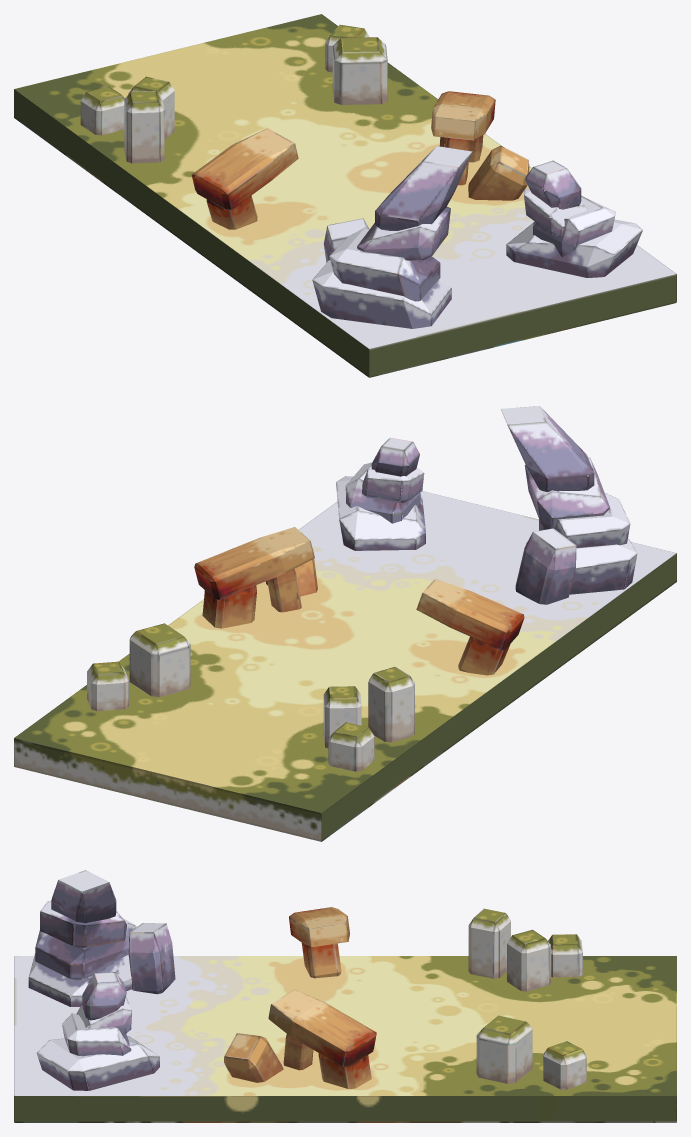
File: Tablero_FINAL.fbx
3 views of the same model, one above another, from view 1: azimuth 30°, elevation 25°; view 2: azimuth 150°, elevation 25°; view 3: azimuth 270°, elevation 25° (orthographic). The views are drawn at different scales.
Parts seen in each view (by area): view 1: TABLERO, beveled_cuboid_7, beveled_cuboid_11, beveled_cuboid_12, beveled_cuboid_15, beveled_cuboid_13, beveled_cuboid_4, beveled_cuboid_2, beveled_cuboid_9, beveled_cuboid_14, beveled_cuboid_19, beveled_cuboid_16 (+7 smaller); view 2: TABLERO, beveled_cuboid_12, beveled_cuboid_9, beveled_cuboid_7, beveled_cuboid_4, beveled_cuboid, beveled_cuboid_15, beveled_cuboid_2, beveled_cuboid_11, beveled_cuboid_14, beveled_cuboid_13, beveled_cuboid_3 (+9 smaller); view 3: TABLERO, beveled_cuboid_9, beveled_cuboid_15, beveled_cuboid_4, beveled_cuboid, beveled_cuboid_13, beveled_cuboid_12, beveled_cuboid_2, beveled_cuboid_1, beveled_cuboid_14, beveled_cuboid_11, beveled_cuboid_19 (+9 smaller).
Boxes of the visible parts, box(x1,y1,x2,y2) form: TABLERO: box(14, 14, 676, 377); beveled_cuboid_7: box(191, 128, 298, 209); beveled_cuboid_11: box(312, 260, 451, 328); beveled_cuboid_12: box(375, 146, 472, 230); beveled_cuboid_15: box(506, 219, 642, 277); beveled_cuboid_13: box(329, 227, 440, 301); beveled_cuboid_4: box(332, 37, 387, 104); beveled_cuboid_2: box(124, 91, 164, 163); beveled_cuboid_9: box(431, 91, 495, 140); beveled_cuboid_14: box(357, 206, 450, 260); beveled_cuboid_19: box(468, 145, 529, 200); beveled_cuboid_16: box(533, 195, 615, 257); TABLERO: box(14, 491, 676, 841); beveled_cuboid_12: box(501, 406, 594, 491); beveled_cuboid_9: box(194, 527, 314, 599); beveled_cuboid_7: box(416, 579, 524, 650); beveled_cuboid_4: box(129, 623, 190, 696); beveled_cuboid: box(515, 528, 576, 604); beveled_cuboid_15: box(336, 476, 425, 550); beveled_cuboid_2: box(368, 667, 414, 742); beveled_cuboid_11: box(526, 536, 637, 594); beveled_cuboid_14: box(524, 457, 609, 528); beveled_cuboid_13: box(539, 493, 630, 547); beveled_cuboid_3: box(328, 722, 374, 771); TABLERO: box(14, 956, 676, 1122); beveled_cuboid_9: box(268, 989, 376, 1066); beveled_cuboid_15: box(36, 1036, 159, 1090); beveled_cuboid_4: box(476, 1015, 532, 1083); beveled_cuboid: box(128, 923, 175, 994); beveled_cuboid_13: box(35, 918, 136, 980); beveled_cuboid_12: box(51, 870, 116, 923); beveled_cuboid_2: box(468, 908, 510, 978); beveled_cuboid_1: box(507, 929, 550, 991); beveled_cuboid_14: box(40, 901, 127, 948); beveled_cuboid_11: box(28, 953, 131, 1006); beveled_cuboid_19: box(224, 1033, 283, 1082).
Bounding box in the file's own units: 3558 × 1801 × 7000.
1 material, 1 textured.
